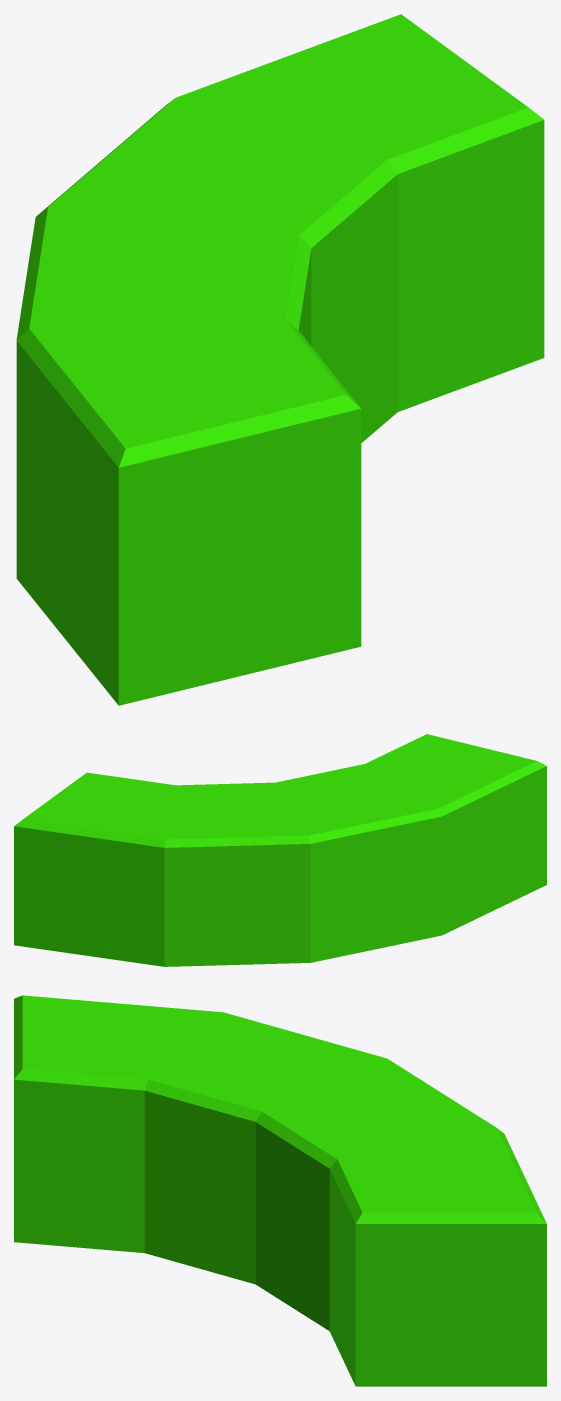
The model's file is round_3x1_01.fbx.
The picture shows the model from 3 angles, top to bottom: view 1: azimuth 30°, elevation 25°; view 2: azimuth 150°, elevation 25°; view 3: azimuth 270°, elevation 25°; orthographic projection. The views are drawn at different scales.
Visible parts, largest first — view 1: round_3x1_01; view 2: round_3x1_01; view 3: round_3x1_01.
Part boxes in pixels (x1,y1,x2,y2): round_3x1_01: (16,14,544,705); round_3x1_01: (14,734,546,966); round_3x1_01: (14,995,546,1386).
Bounding box in the file's own units: 312 × 110 × 312.
